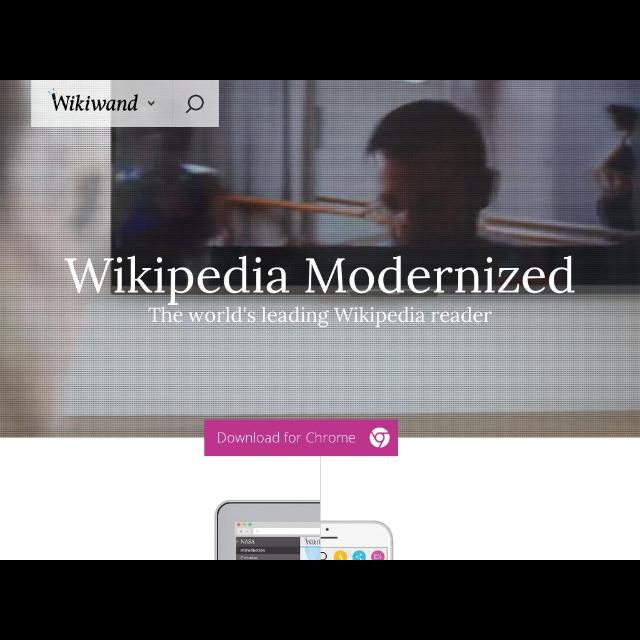button: (174, 82, 218, 128)
icon: (183, 94, 204, 116), (370, 429, 390, 447), (147, 100, 157, 108)
image: (216, 500, 394, 560), (48, 88, 138, 114)
spinner: (33, 82, 174, 126)
text: (66, 255, 576, 307), (148, 306, 492, 328), (217, 430, 356, 446)
textbutton: (205, 420, 398, 456)
